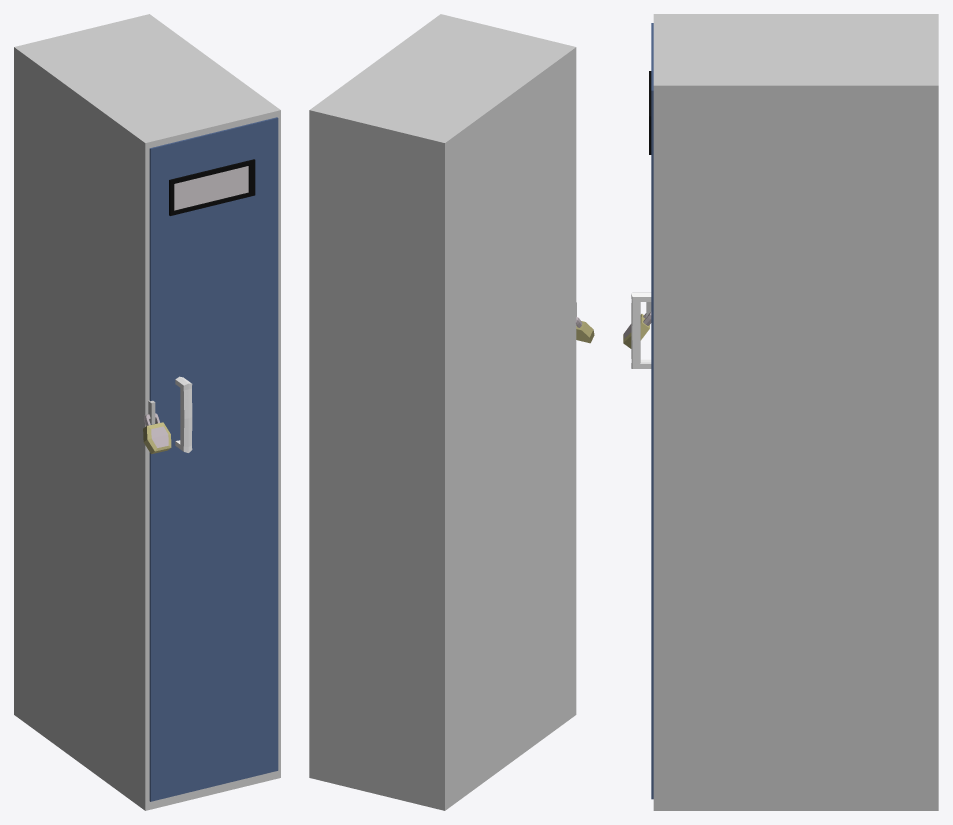
The model's file is Locker_01.fbx.
3 views of the same model, side by side, from view 1: azimuth 30°, elevation 25°; view 2: azimuth 150°, elevation 25°; view 3: azimuth 270°, elevation 25° (orthographic). The views are drawn at different scales.
Visible parts, largest first — view 1: Locker_01, Locker-door_01, Locker-Handle_01, Locker-padlock_01; view 2: Locker_01; view 3: Locker_01, Locker-door_01, Locker-Handle_01.
Part boxes in pixels (left/top/right/bottom): Locker_01: left=14, top=14, right=280, bottom=810; Locker-door_01: left=148, top=117, right=278, bottom=801; Locker-Handle_01: left=175, top=376, right=192, bottom=452; Locker-padlock_01: left=143, top=413, right=171, bottom=454; Locker_01: left=309, top=14, right=576, bottom=810; Locker_01: left=653, top=14, right=938, bottom=810; Locker-door_01: left=646, top=23, right=653, bottom=799; Locker-Handle_01: left=631, top=292, right=651, bottom=368.
Bounding box in the file's own units: 0.4272 × 1.9 × 0.7513.
